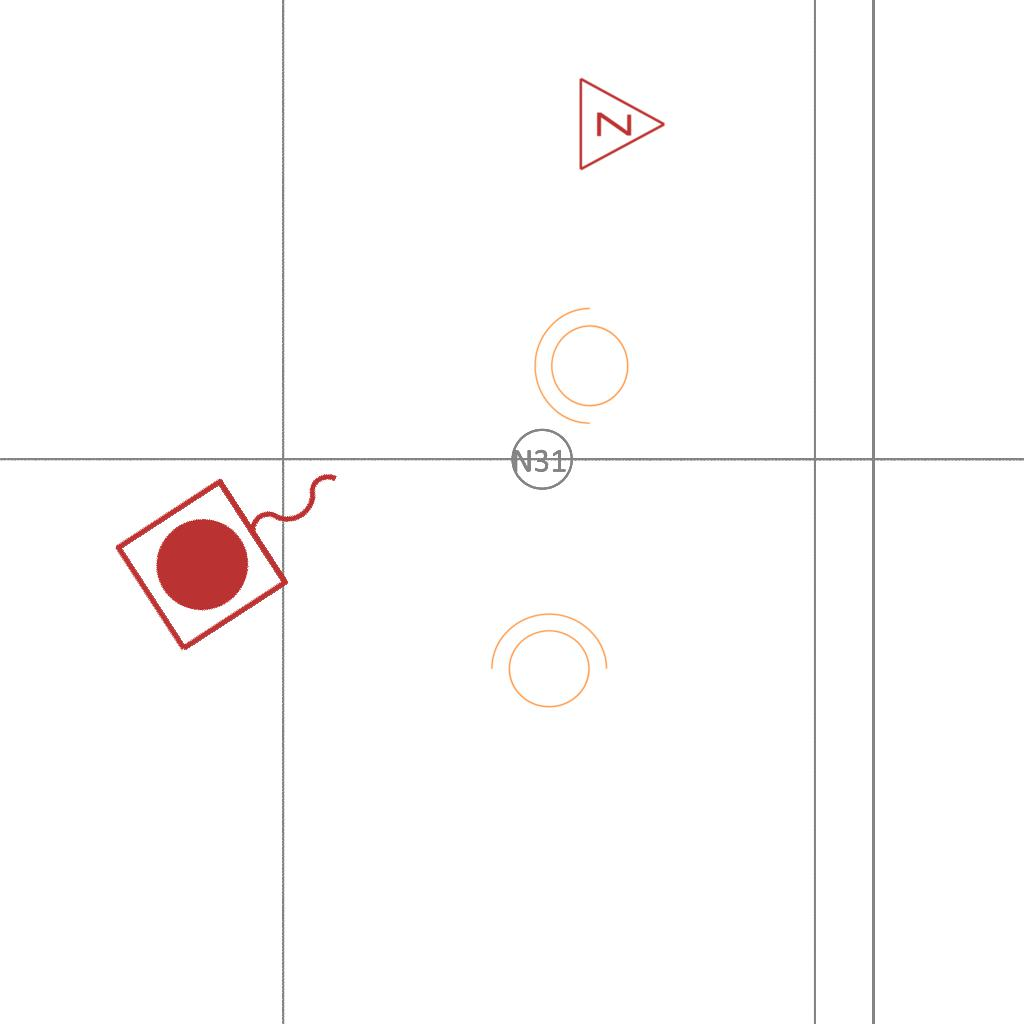Scheinwerfer_fuer_Alarmbeleuchtung: (529, 303, 641, 435), (480, 608, 612, 720)
Zimmersignalleuchte: (572, 74, 672, 172)
Zugtaster: (103, 412, 387, 666)
